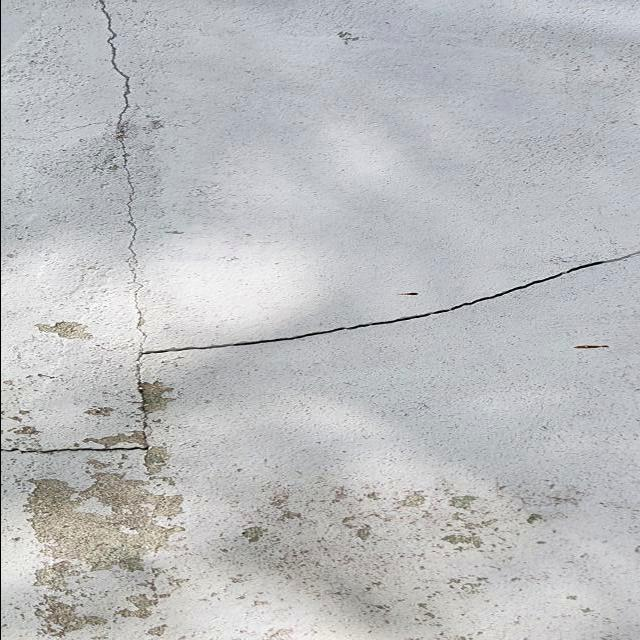SurfaceCrack: (118, 231, 640, 388)
